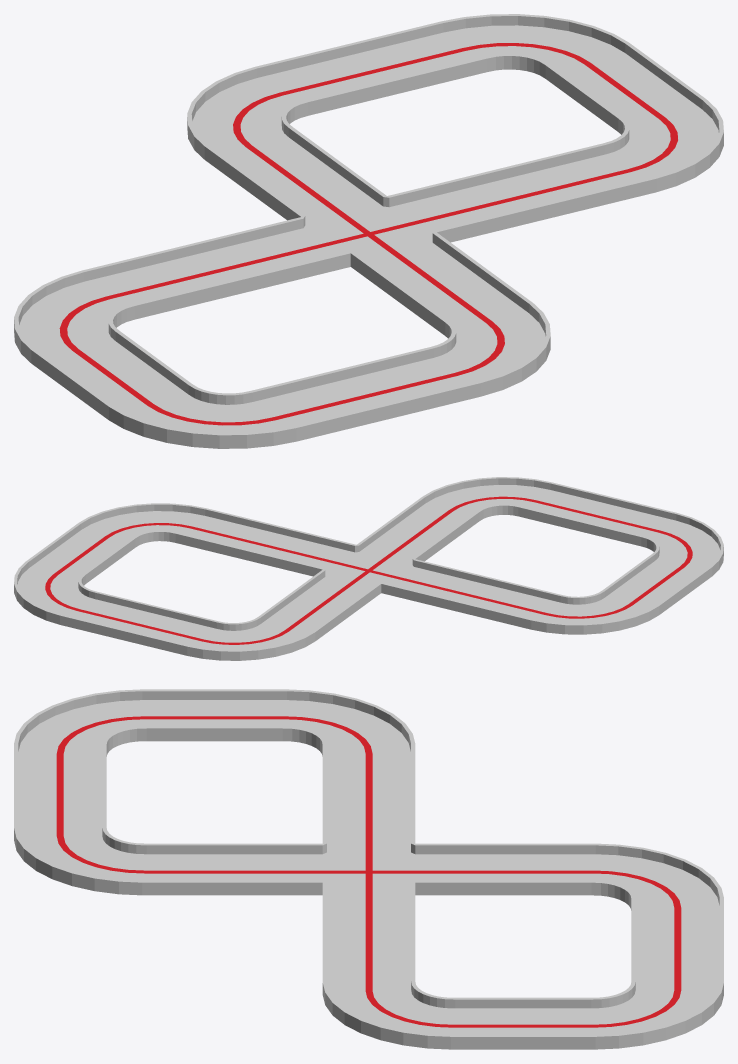
Rendered from track.dae.
3 renders of one model, top to bottom at view 1: azimuth 30°, elevation 25°; view 2: azimuth 150°, elevation 25°; view 3: azimuth 270°, elevation 25°, orthographic. The views are drawn at different scales.
Visible parts, largest first — view 1: Track; view 2: Track; view 3: Track.
Boxes of the visible parts, x1,y1,x2,y2 form: Track: (14,14,723,448); Track: (14,477,723,660); Track: (14,689,723,1049).
Bounding box in the file's own units: 5.86 × 5.06 × 0.1.
